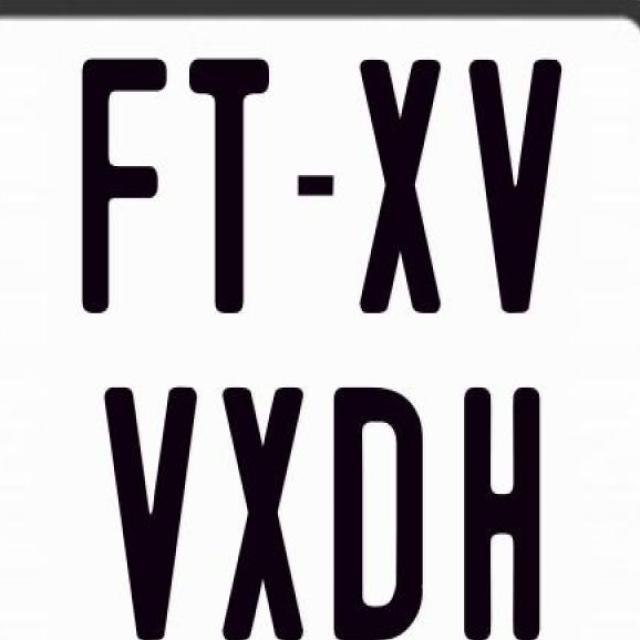license-plate: (6, 18, 640, 639)
